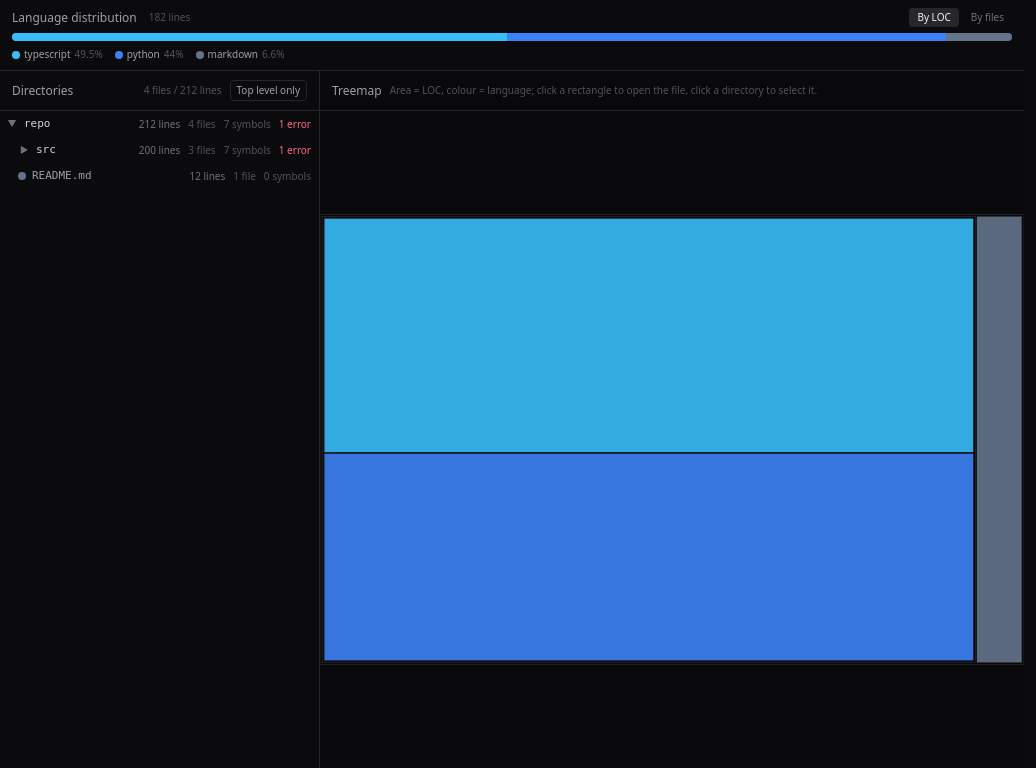
Test case: DirTreeView 目录树 › 折叠/展开目录：展开 src 后出现子行
Check: the number of list items with test id "dir-row" is 3, box [0,111,319,137]; [0,137,319,163]; [18,169,311,183]
What coordinates should you click on to do the following:
click the button with test id "dir-row-toggle" showing "▶"
I would click on:
 (24, 150)
Its box is [18,138,30,162].
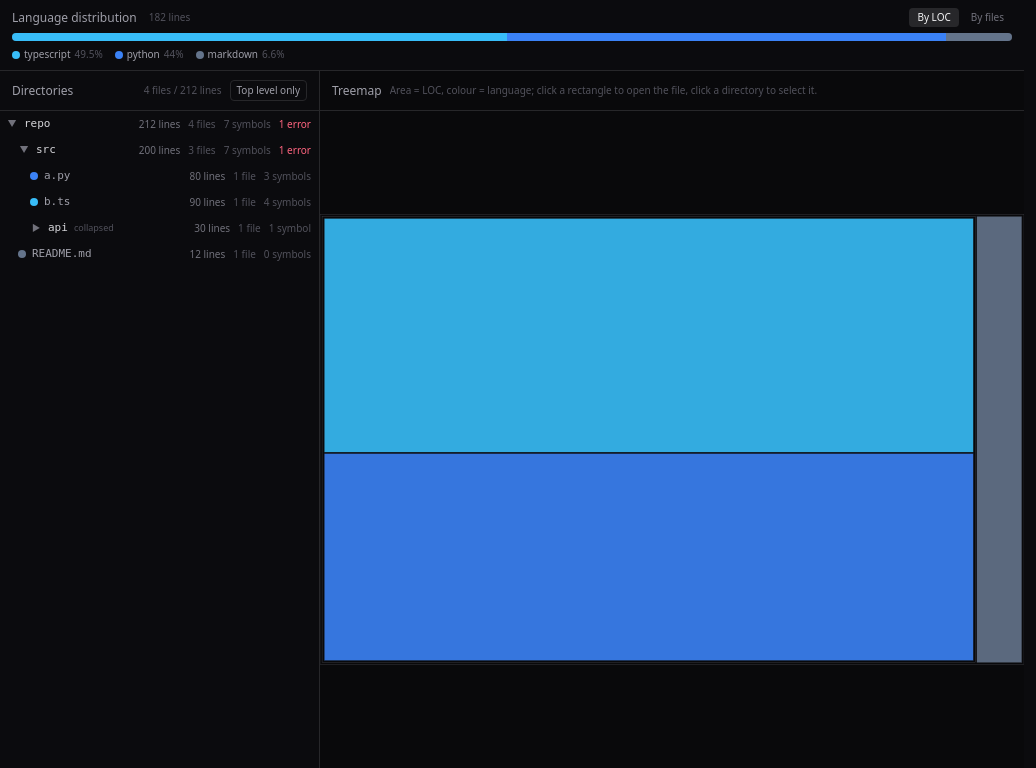
Check: the number of list items with test id "dir-row" is 6, box [0,111,319,137]; [0,137,319,163]; [30,169,311,183]; [30,195,311,209]; [0,215,319,241]; [18,247,311,261]
What coordinates should you click on to do the following:
click the button with test id "dir-row-toggle" next to "src"
I would click on:
 (24, 150)
Its box is [18,138,30,162].
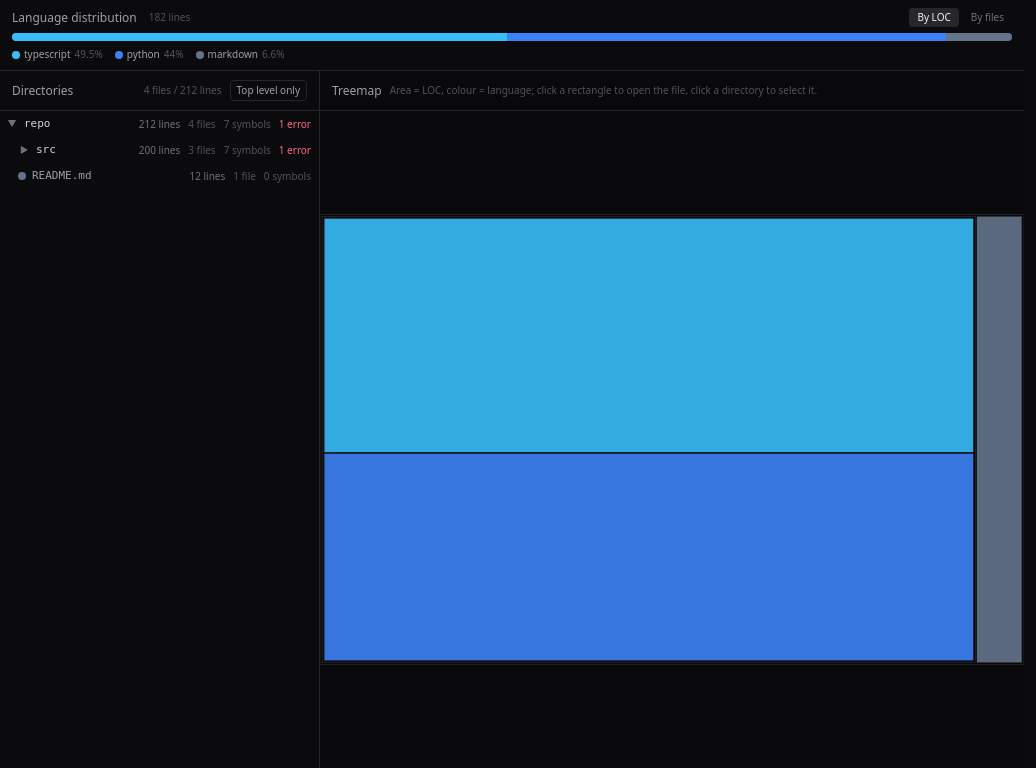
Check: the number of list items with test id "dir-row" is 3, box [0,111,319,137]; [0,137,319,163]; [18,169,311,183]
